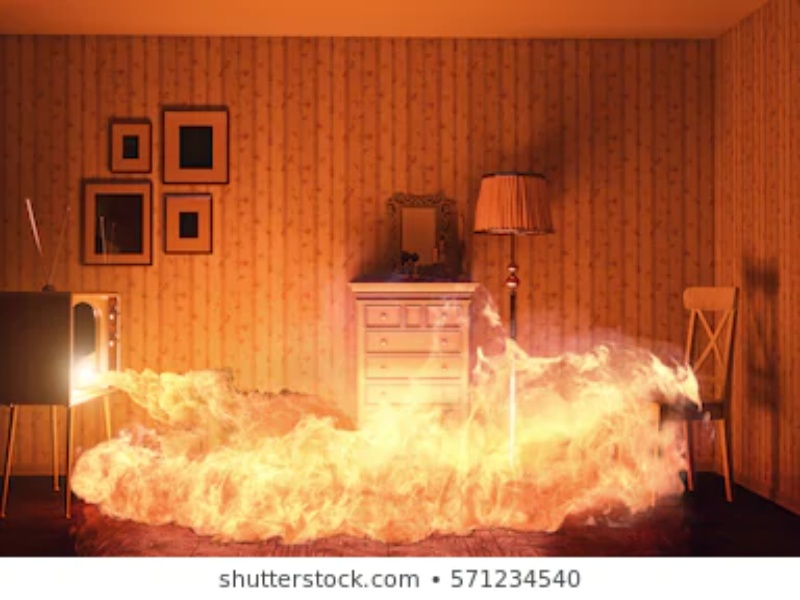fire: (66, 321, 701, 555)
